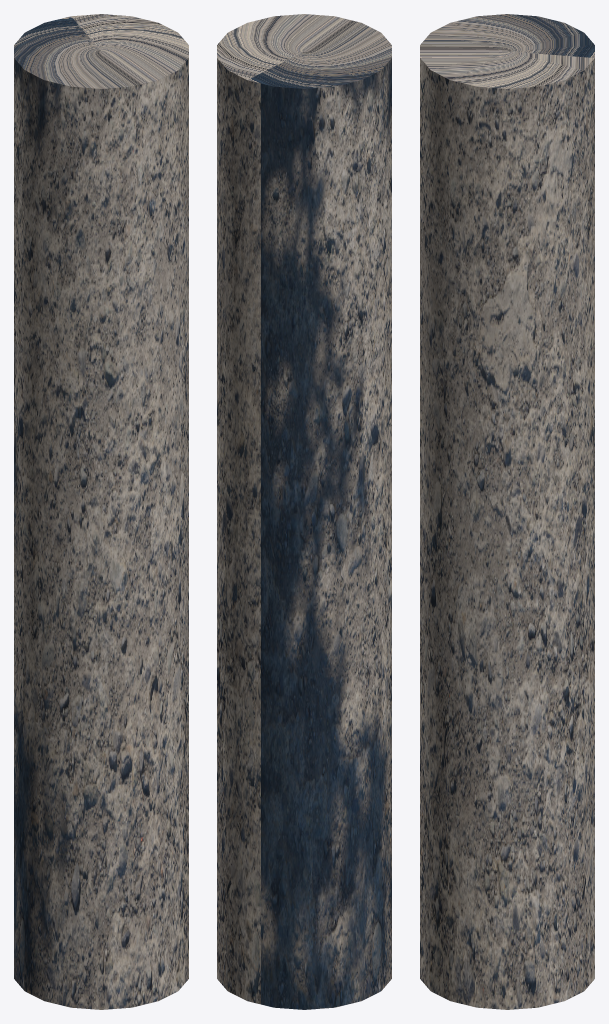
File: columna.obj
3 views of the same model, side by side, from view 1: azimuth 30°, elevation 25°; view 2: azimuth 150°, elevation 25°; view 3: azimuth 270°, elevation 25° (orthographic).
Visible parts, largest first — view 1: Cylinder001; view 2: Cylinder001; view 3: Cylinder001.
Part boxes in pixels (x1=…): Cylinder001: x1=14, y1=14, x2=188, y2=1009; Cylinder001: x1=217, y1=14, x2=391, y2=1009; Cylinder001: x1=420, y1=14, x2=594, y2=1009.
Size of the model in its own units: 19.2 by 110 by 18.91.
Materials: 1 (1 with a texture image).
